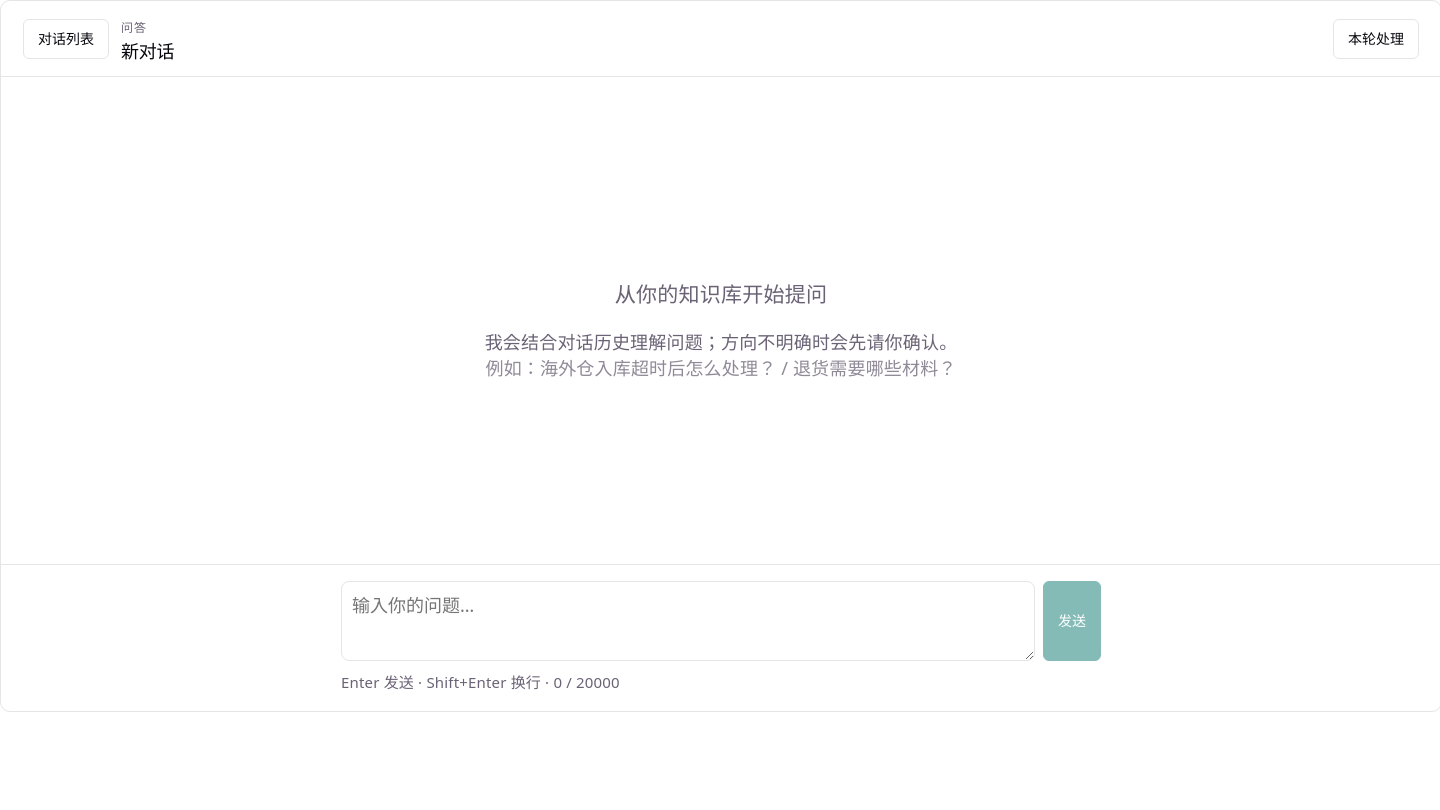
问答 C — 3C 流式生成 › 生成中停止立即保留部分答案且忽略后到delta
Check: the button "对话列表" is shown, box [23,19,109,59]
Type "请详细回答" into the text box labelled "输入你的问题".
click(688, 621); type("请详细回答")  # box [341,581,1035,661]
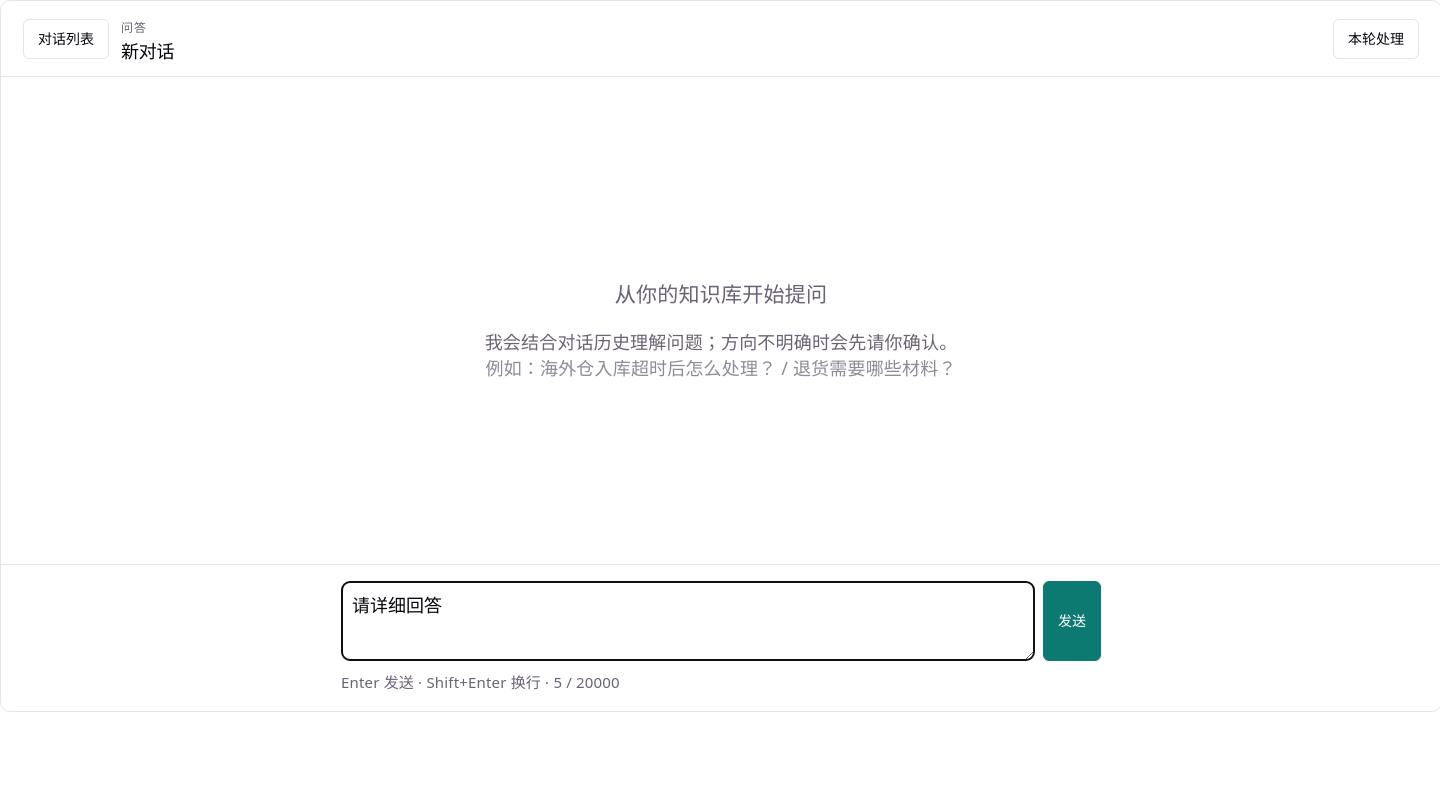
Click the button "发送".
click(1072, 621)  # box [1043,581,1101,661]
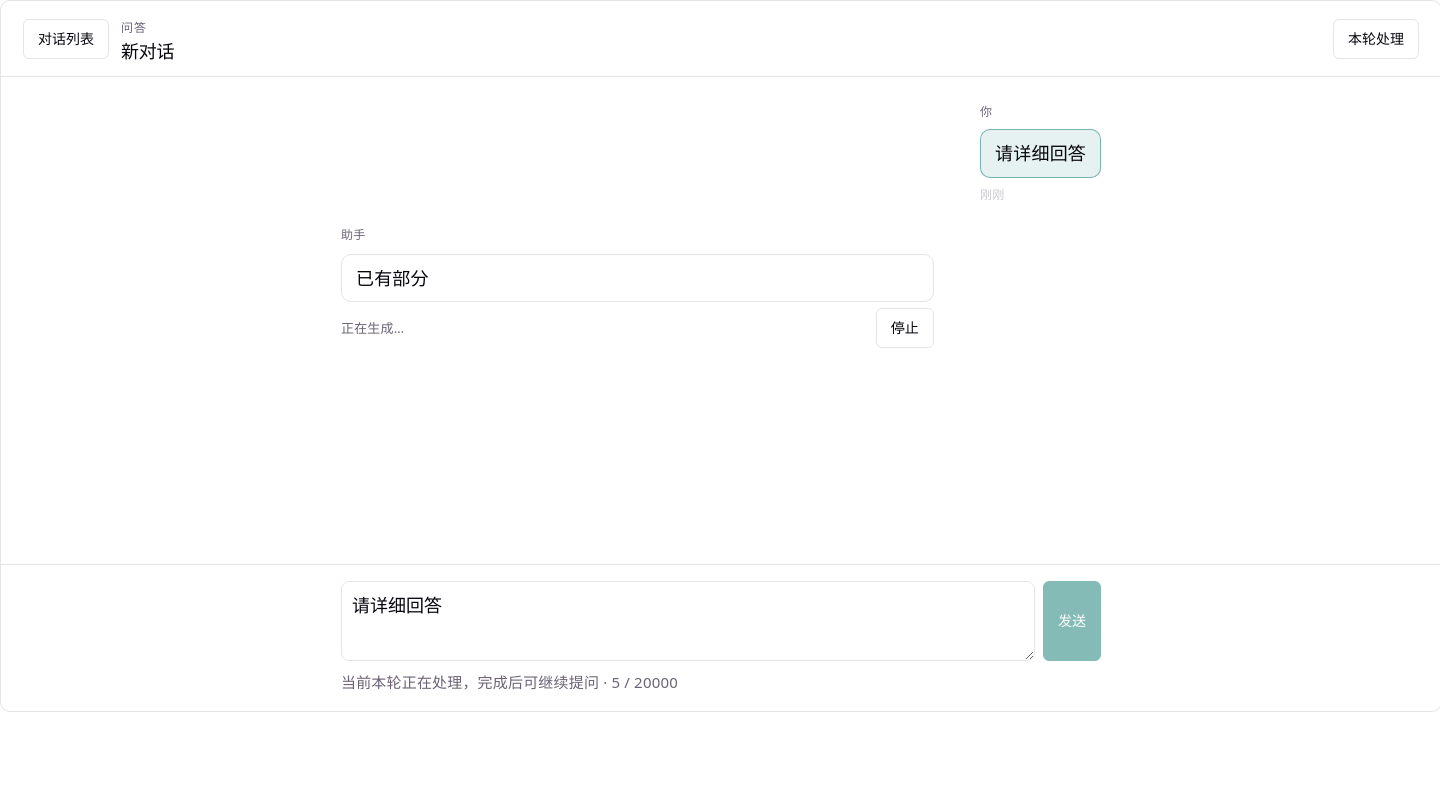
Check: the text "已有部分" is shown, box [341,254,934,302]
Click the button with aria-label "停止生成".
click(905, 328)  # box [876,308,934,348]
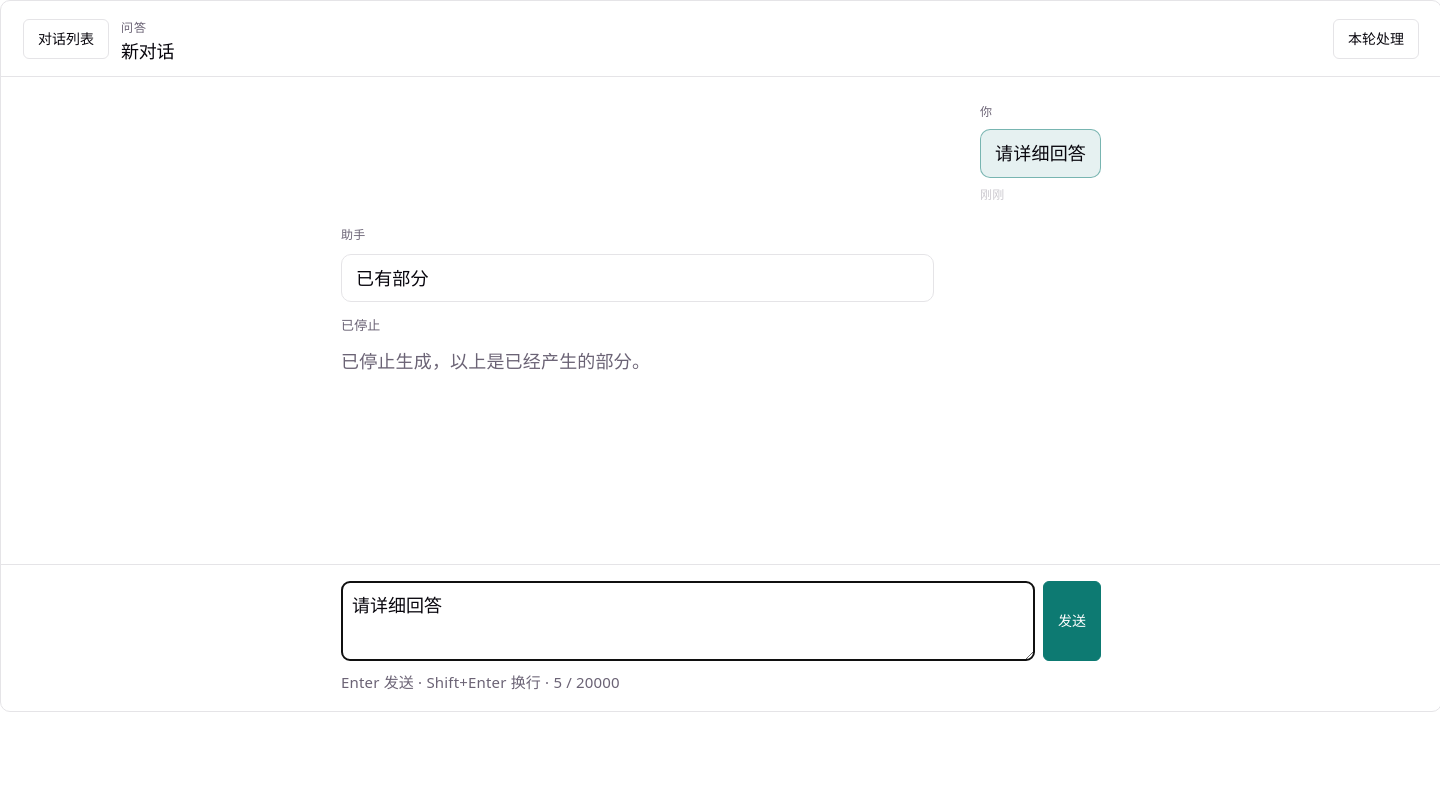
Check: the text "已停止" is shown, box [341,312,380,338]
Check: the text "已停止生成，以上是已经产生的部分。" is shown, box [341,349,650,373]
Check: the text box named "输入你的问题" is enabled, box [341,581,1035,661]
